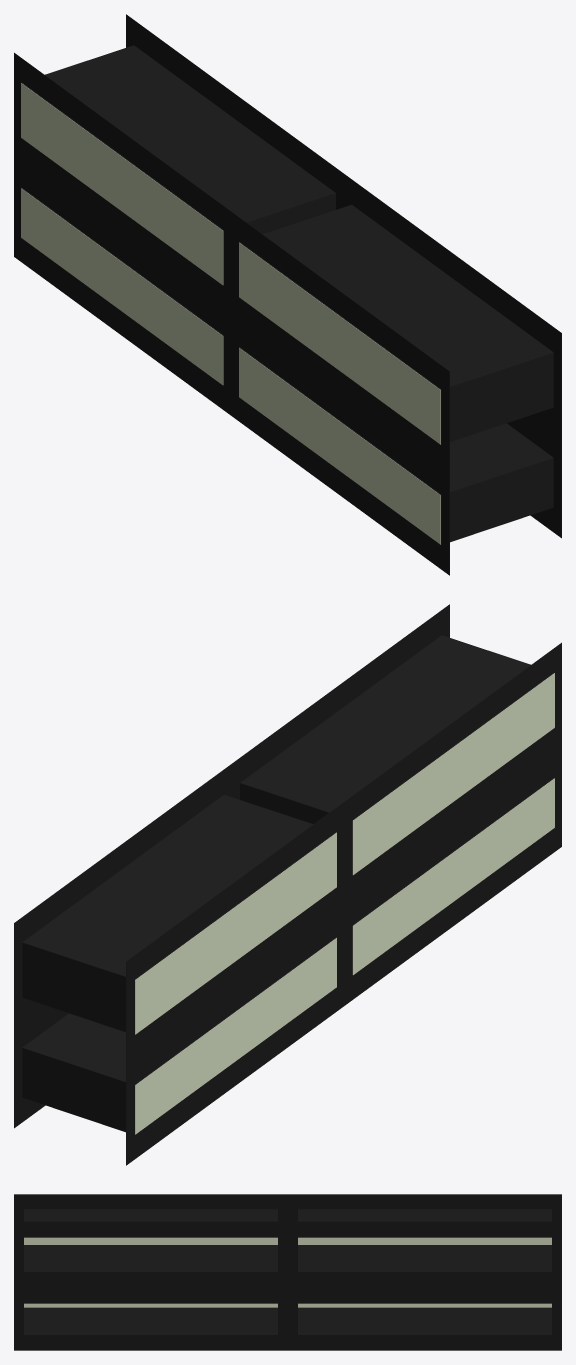
The model's file is MESH_FINESTRE_DA_2_TEAM.fbx.
3 views of the same model, one above another, from view 1: azimuth 30°, elevation 25°; view 2: azimuth 150°, elevation 25°; view 3: azimuth 270°, elevation 25° (orthographic). The views are drawn at different scales.
Visible parts, largest first — view 1: Plane.033, Plane.032, Plane.035; view 2: Plane.033, Plane.032, Plane.035; view 3: Plane.033, Plane.032, Plane.035.
Boxes of the visible parts, bbox=[...] form: Plane.033: bbox=[14, 14, 561, 575]; Plane.032: bbox=[21, 83, 440, 444]; Plane.035: bbox=[21, 188, 440, 544]; Plane.033: bbox=[14, 604, 561, 1165]; Plane.032: bbox=[135, 673, 554, 1034]; Plane.035: bbox=[135, 778, 554, 1134]; Plane.033: bbox=[14, 1194, 561, 1350]; Plane.032: bbox=[24, 1237, 551, 1244]; Plane.035: bbox=[24, 1303, 551, 1307].
Bounding box in the file's own units: 0.3886 × 0.7062 × 2.59.
